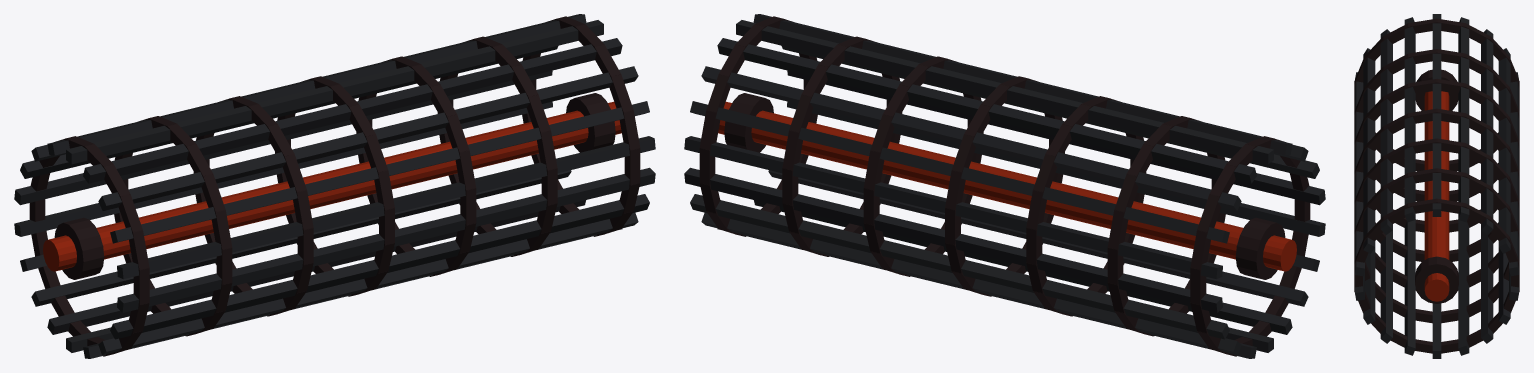
Rendered from fortress_grate_drum.obj.
3 renders of one model, left to right at view 1: azimuth 30°, elevation 25°; view 2: azimuth 150°, elevation 25°; view 3: azimuth 270°, elevation 25°, orthographic. The views are drawn at different scales.
Visible parts, largest first — view 1: fortress_grate_drum; view 2: fortress_grate_drum; view 3: fortress_grate_drum.
Part boxes in pixels (x1,y1,x2,y2): fortress_grate_drum: (14, 14, 655, 358); fortress_grate_drum: (684, 14, 1325, 358); fortress_grate_drum: (1354, 14, 1519, 358).
Bounding box in the file's own units: 19.2 × 6.54 × 6.44.
